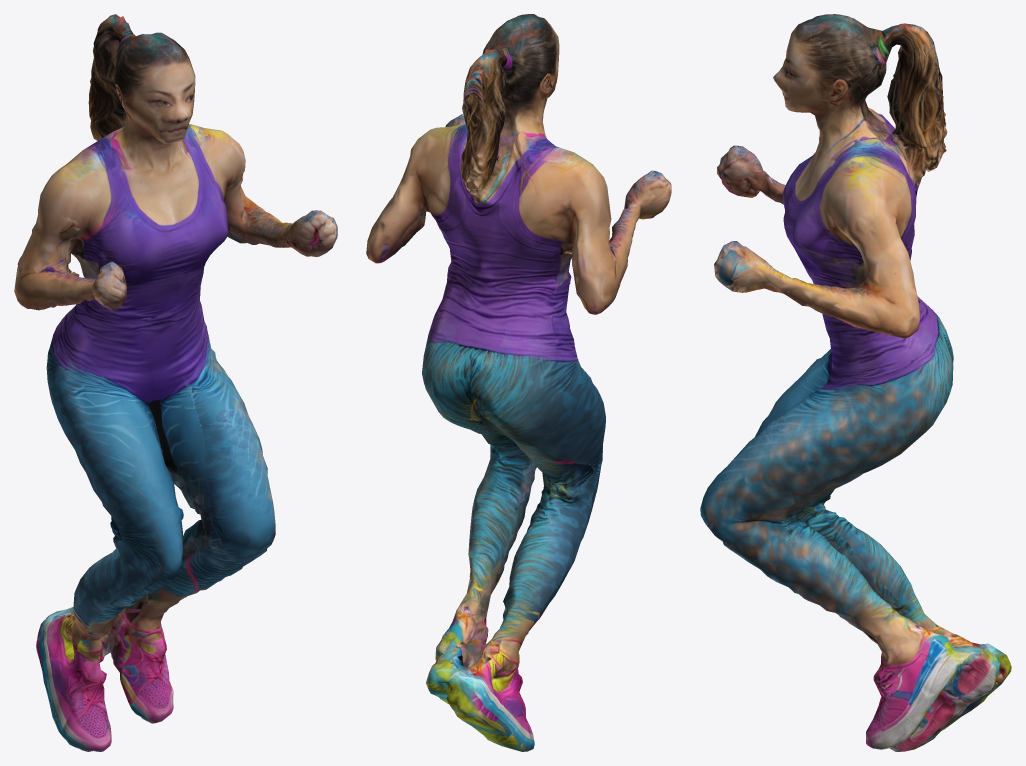
3 renders of one model, left to right at view 1: azimuth 30°, elevation 25°; view 2: azimuth 150°, elevation 25°; view 3: azimuth 270°, elevation 25°, orthographic. The views are drawn at different scales.
Size of the model in its own units: 0.4291 by 1.2 by 0.4549.
Materials: 1 (1 with a texture image).
